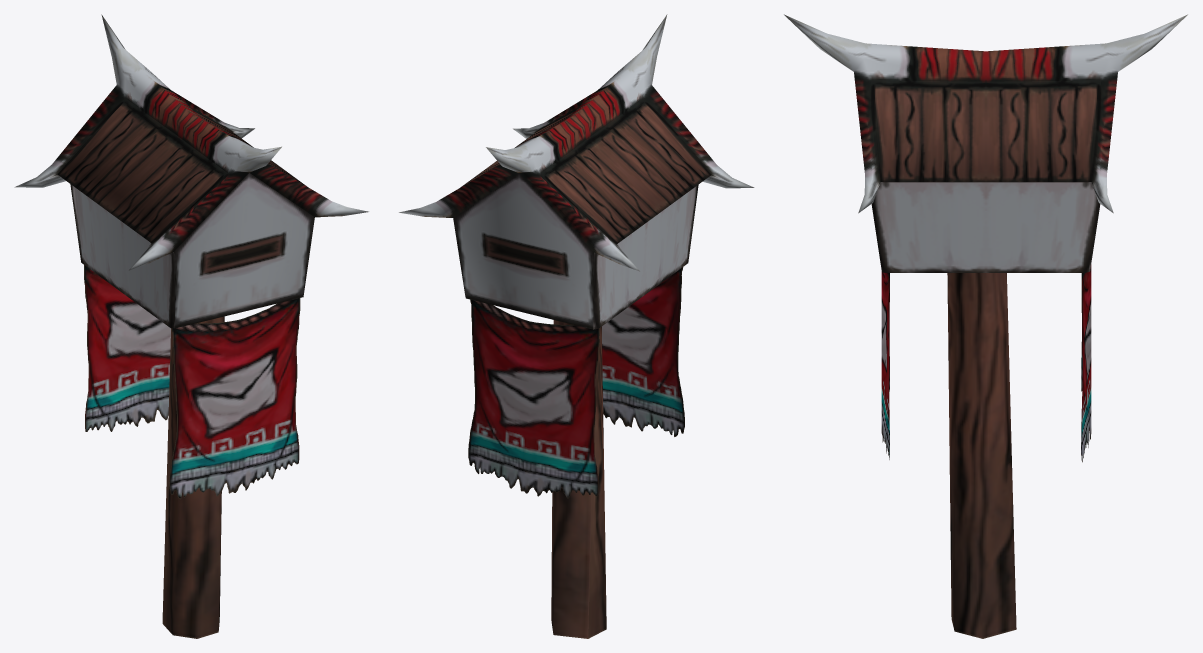
File: PRP_Mailbox01.FBX
The picture shows the model from 3 angles, left to right: view 1: azimuth 30°, elevation 25°; view 2: azimuth 150°, elevation 25°; view 3: azimuth 270°, elevation 25°; orthographic projection. The views are drawn at different scales.
Parts seen in each view (by area): view 1: PRP_Mailbox01; view 2: PRP_Mailbox01; view 3: PRP_Mailbox01.
Boxes of the visible parts, box(x1,y1,x2,y2) form: PRP_Mailbox01: box(14, 14, 368, 638); PRP_Mailbox01: box(399, 14, 754, 638); PRP_Mailbox01: box(784, 14, 1187, 638).
Bounding box in the file's own units: 79.2 × 171 × 103.
